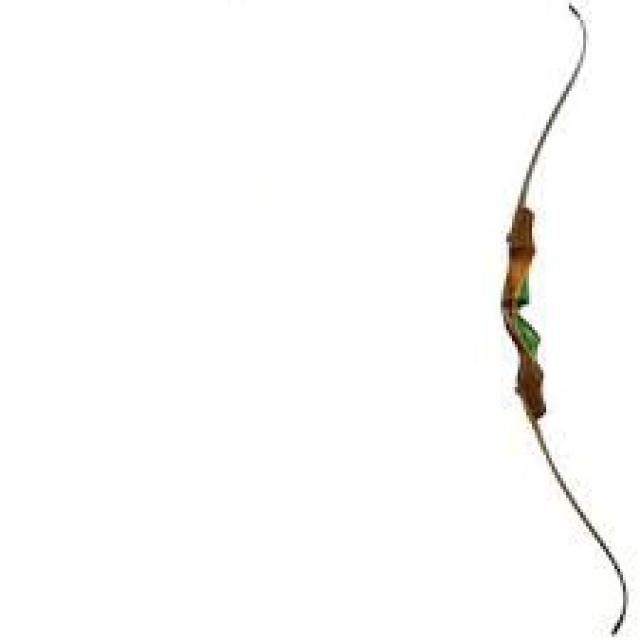X-Bow: (493, 5, 633, 638)
